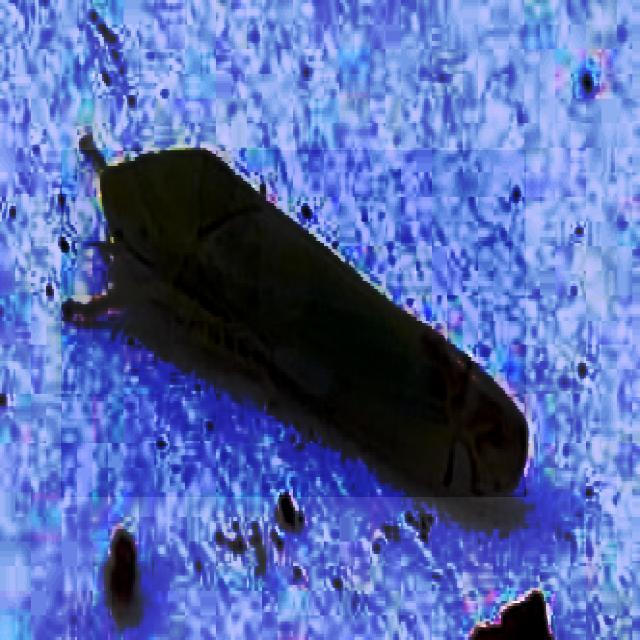green-leafhopper: (62, 150, 526, 497)
